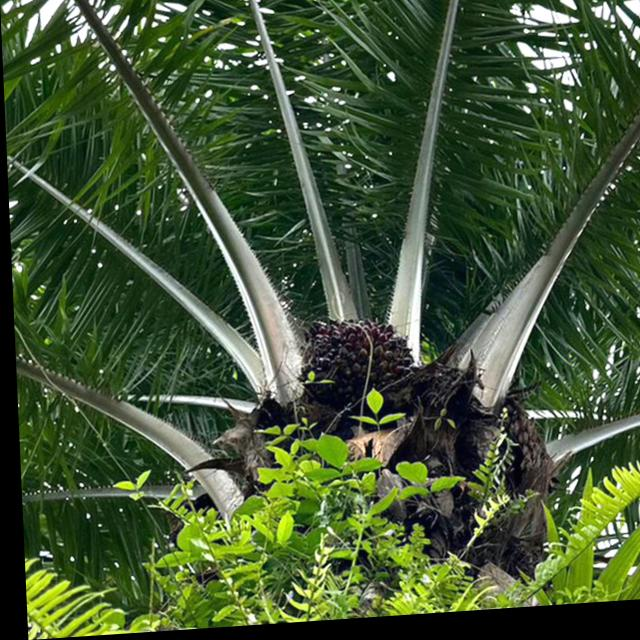ripe: (290, 308, 416, 414)
